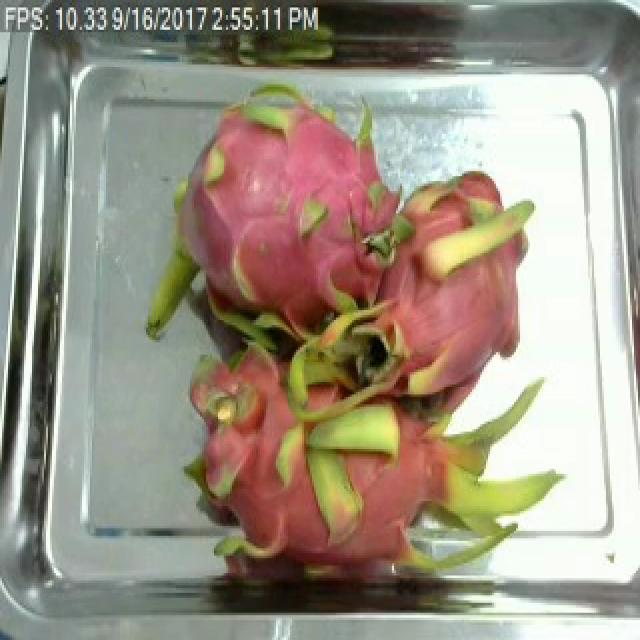Fruit: (390, 164, 512, 283)
